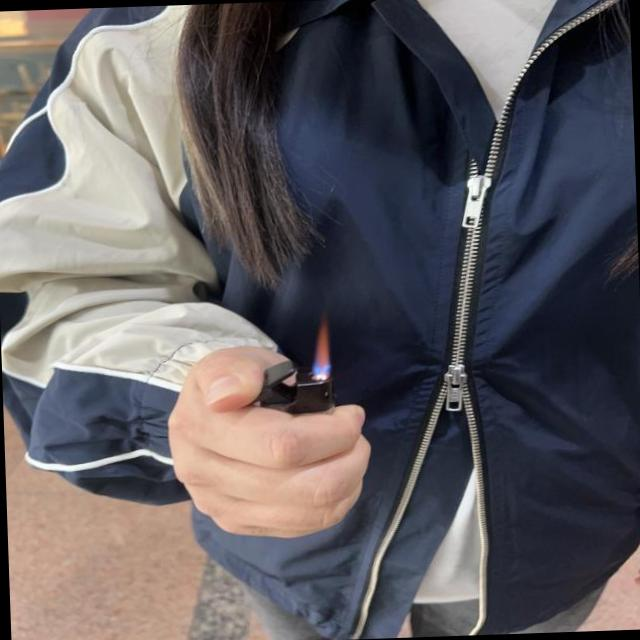Fire: (308, 322, 334, 375)
